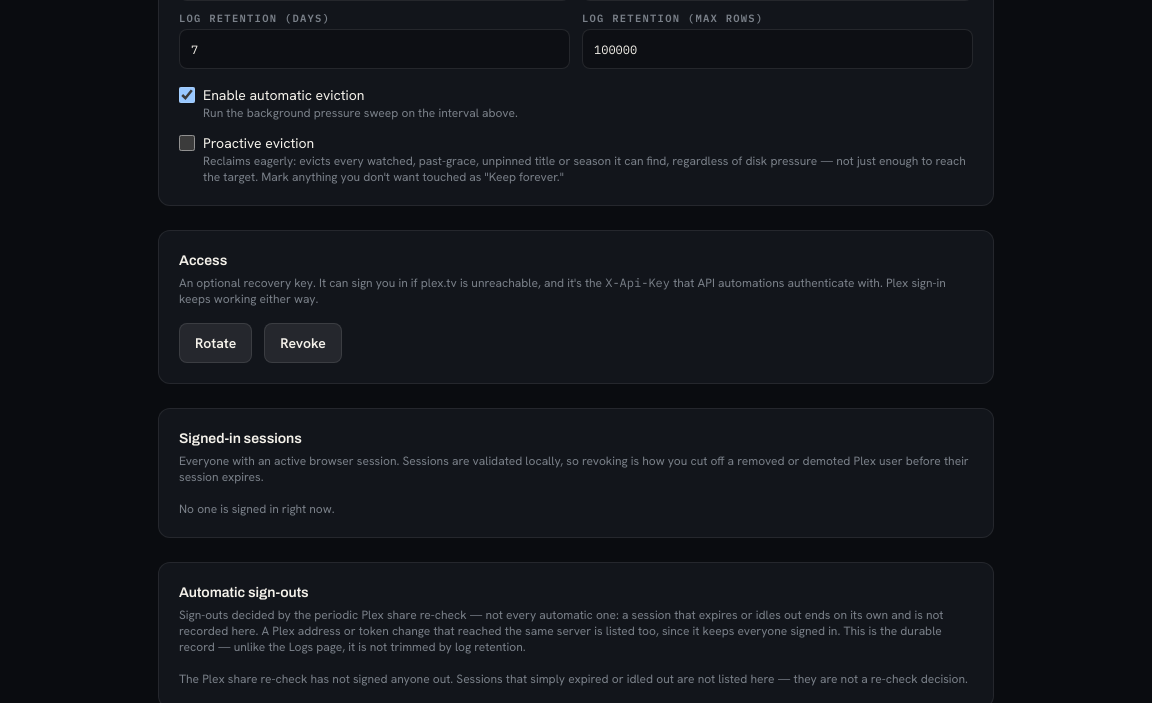
Test: Settings — Access recovery key (opt-in, ADR-0016) › cancelling the revoke dialog revokes nothing
(page scrolled)
Click the button "Revoke" at (303, 343), box [264,323,342,363]
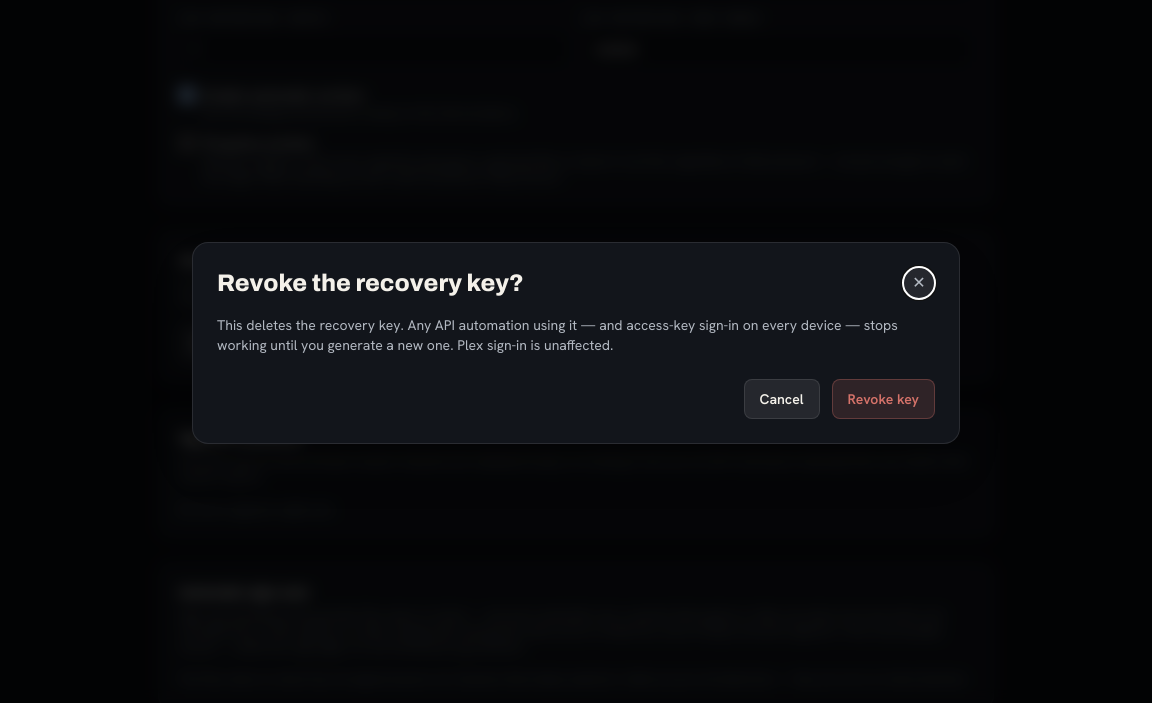
Click the button "Cancel" at (782, 399), box [744,379,820,419]
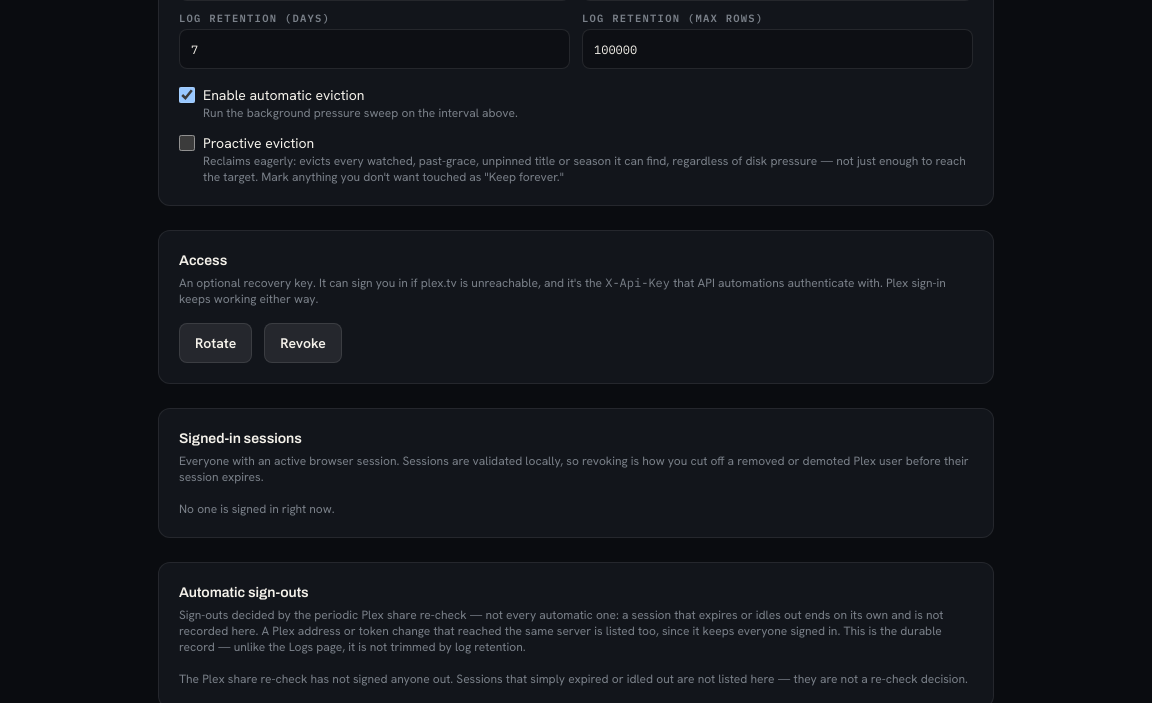
Expected: the dialog is gone
